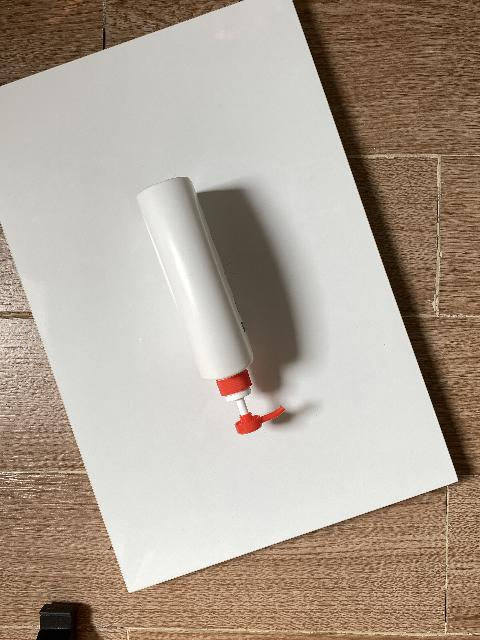life-buoy: (136, 177, 287, 436)
